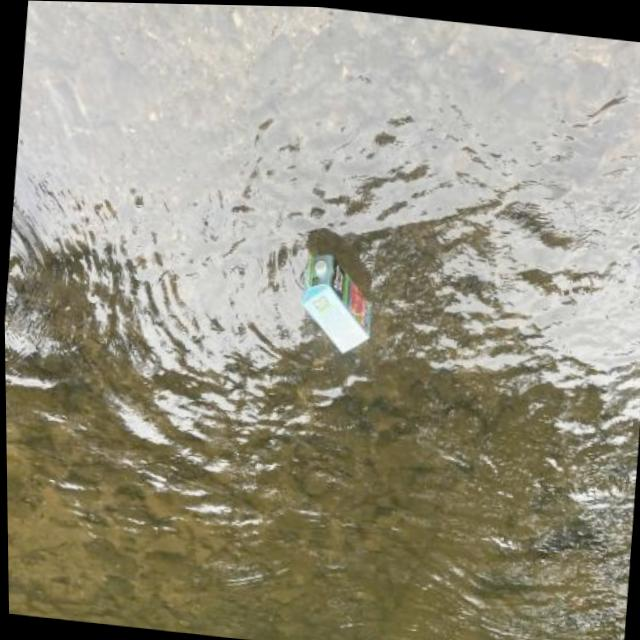Cardboard: (288, 236, 381, 362)
